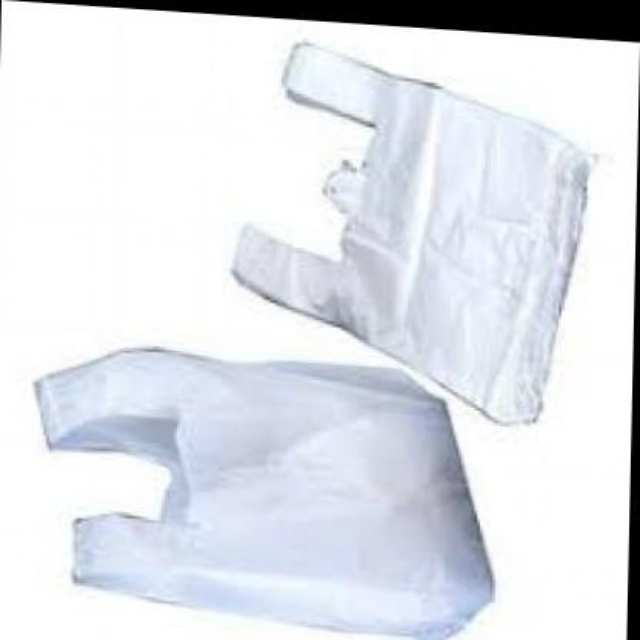trash: (232, 43, 588, 422), (35, 349, 491, 638)
